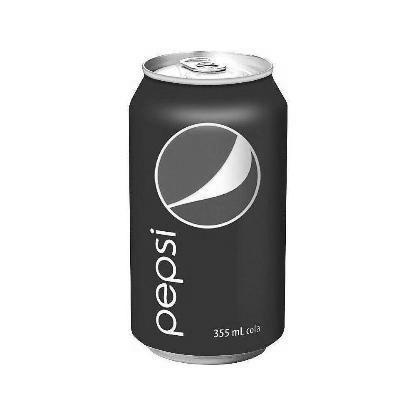alumunium_can: (130, 53, 289, 365)
